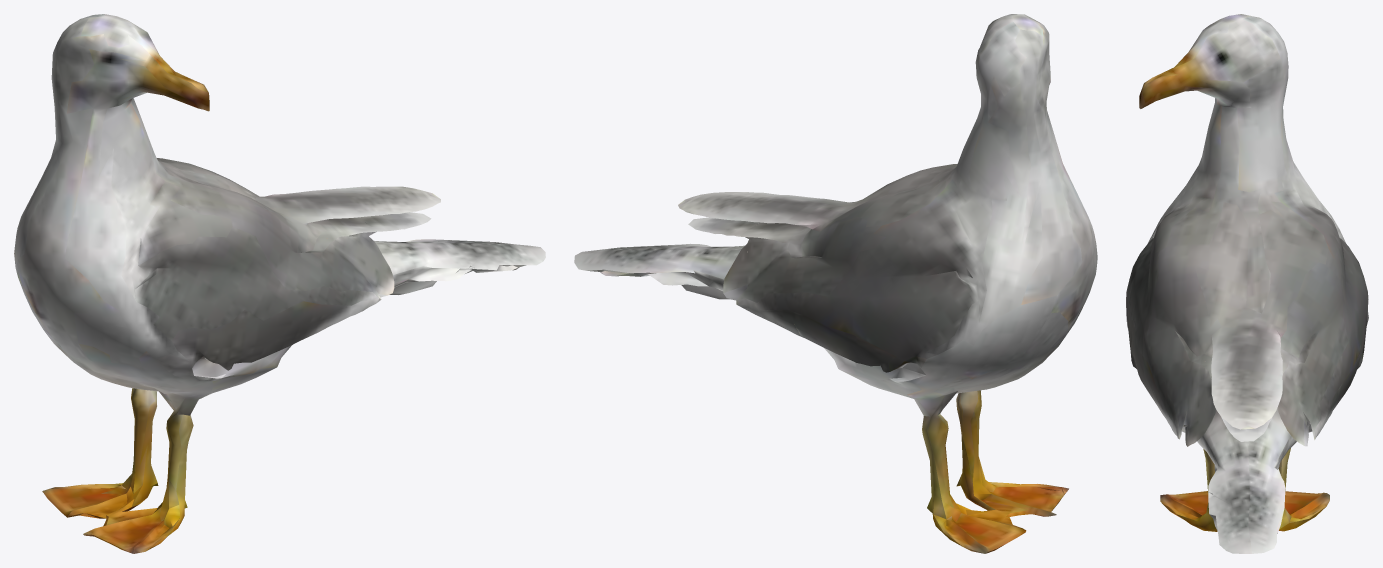
File: gull.glb
The picture shows the model from 3 angles, left to right: view 1: azimuth 30°, elevation 25°; view 2: azimuth 150°, elevation 25°; view 3: azimuth 270°, elevation 25°; orthographic projection. The views are drawn at different scales.
Visible parts, largest first — view 1: gull; view 2: gull; view 3: gull.
Part boxes in pixels (left/top/right/bottom): gull: left=14, top=14, right=545, bottom=553; gull: left=574, top=14, right=1097, bottom=553; gull: left=1126, top=14, right=1368, bottom=553.
Size of the model in its own units: 0.4264 by 0.3999 by 0.181.
1 material, 1 textured.
